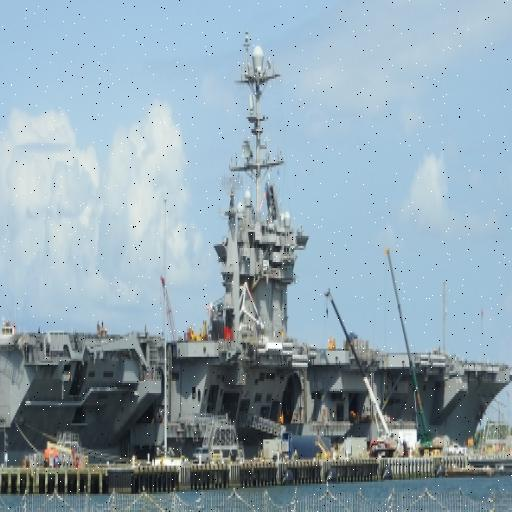Portanaves: (1, 19, 512, 503)
